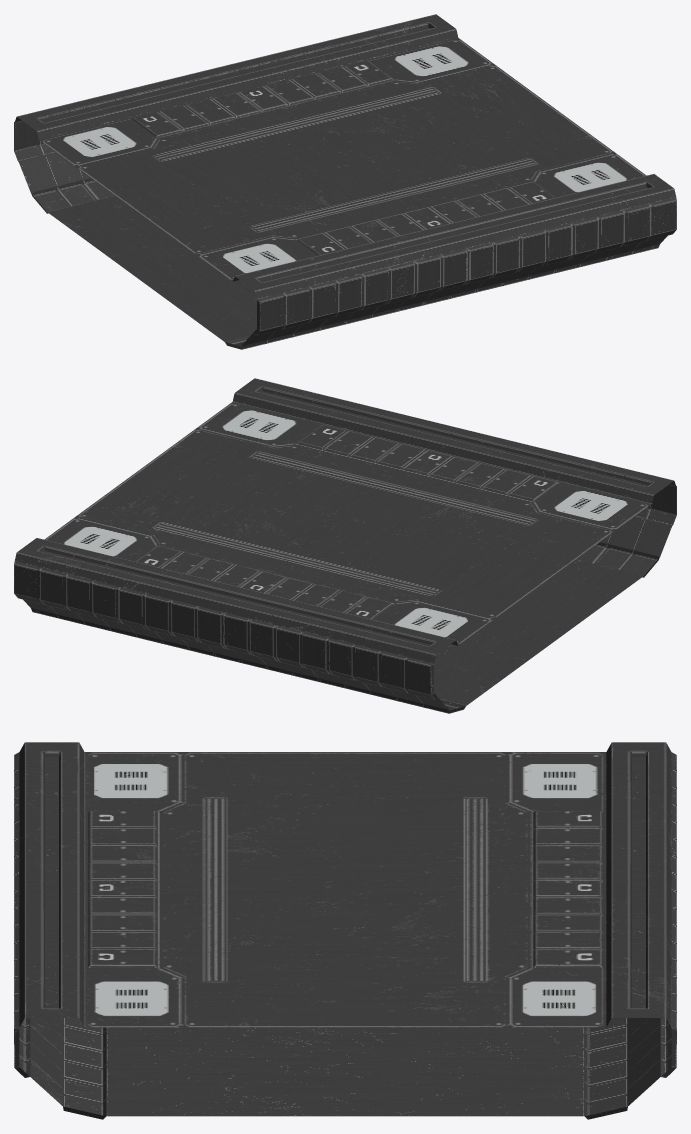
The model's file is scifi_platform.glb.
3 views of the same model, one above another, from view 1: azimuth 30°, elevation 25°; view 2: azimuth 150°, elevation 25°; view 3: azimuth 270°, elevation 25° (orthographic). The views are drawn at different scales.
Parts seen in each view (by area): view 1: Platform6x6_PlatformFloor6x6_0, Platform6x6_PlatformBasis6x6_0; view 2: Platform6x6_PlatformFloor6x6_0, Platform6x6_PlatformBasis6x6_0; view 3: Platform6x6_PlatformFloor6x6_0, Platform6x6_PlatformBasis6x6_0.
Part boxes in pixels (left/top/right/bottom): Platform6x6_PlatformFloor6x6_0: left=15, top=14, right=676, bottom=299; Platform6x6_PlatformBasis6x6_0: left=14, top=120, right=676, bottom=349; Platform6x6_PlatformFloor6x6_0: left=14, top=378, right=675, bottom=663; Platform6x6_PlatformBasis6x6_0: left=14, top=484, right=676, bottom=713; Platform6x6_PlatformFloor6x6_0: left=19, top=742, right=671, bottom=1027; Platform6x6_PlatformBasis6x6_0: left=14, top=752, right=676, bottom=1119.
Bounding box in the file's own units: 600 × 104 × 610.
Materials: 2 (2 with a texture image).
